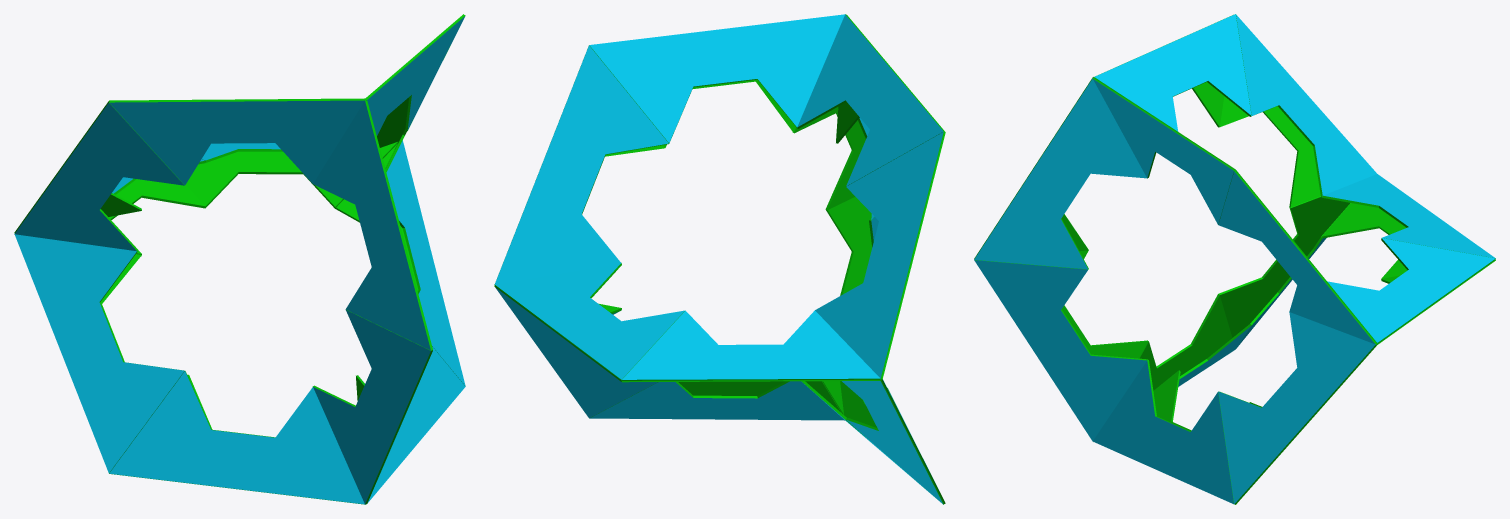
File: Mobius24S.glb
The picture shows the model from 3 angles, left to right: view 1: azimuth 30°, elevation 25°; view 2: azimuth 150°, elevation 25°; view 3: azimuth 270°, elevation 25°; orthographic projection. The views are drawn at different scales.
Visible parts, largest first — view 1: Mesh_0005_1, Mesh_0005; view 2: Mesh_0005_1, Mesh_0005; view 3: Mesh_0005_1, Mesh_0005.
Boxes of the visible parts, x1,y1,x2,y2 form: Mesh_0005_1: (14,16,465,504); Mesh_0005: (14,14,465,504); Mesh_0005_1: (494,14,943,504); Mesh_0005: (494,14,945,504); Mesh_0005_1: (974,14,1495,504); Mesh_0005: (974,14,1495,504).
Size of the model in its own units: 8.62 by 8.62 by 11.17.
